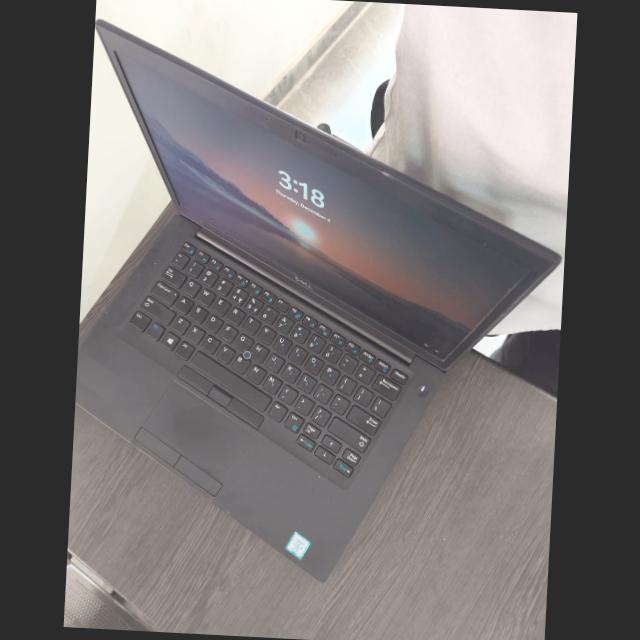laptop: (80, 12, 564, 580)
